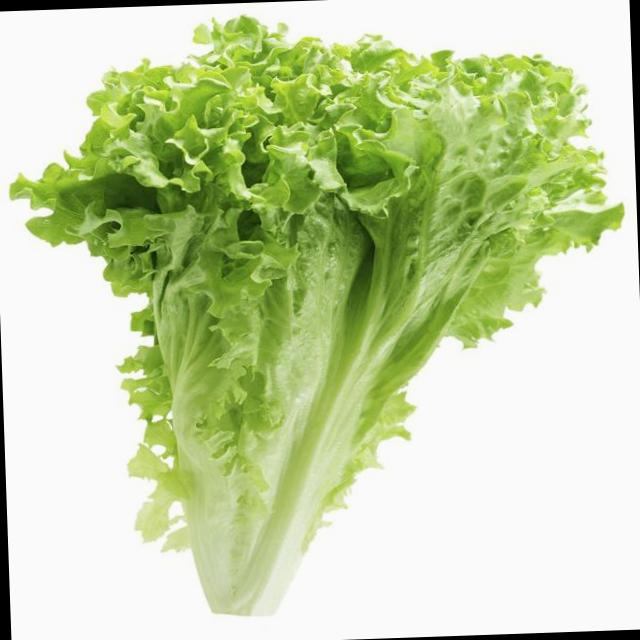Lettuce-Ready-to-Harvest: (6, 1, 638, 628)
